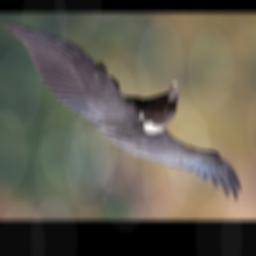Crow: (0, 19, 243, 203)
